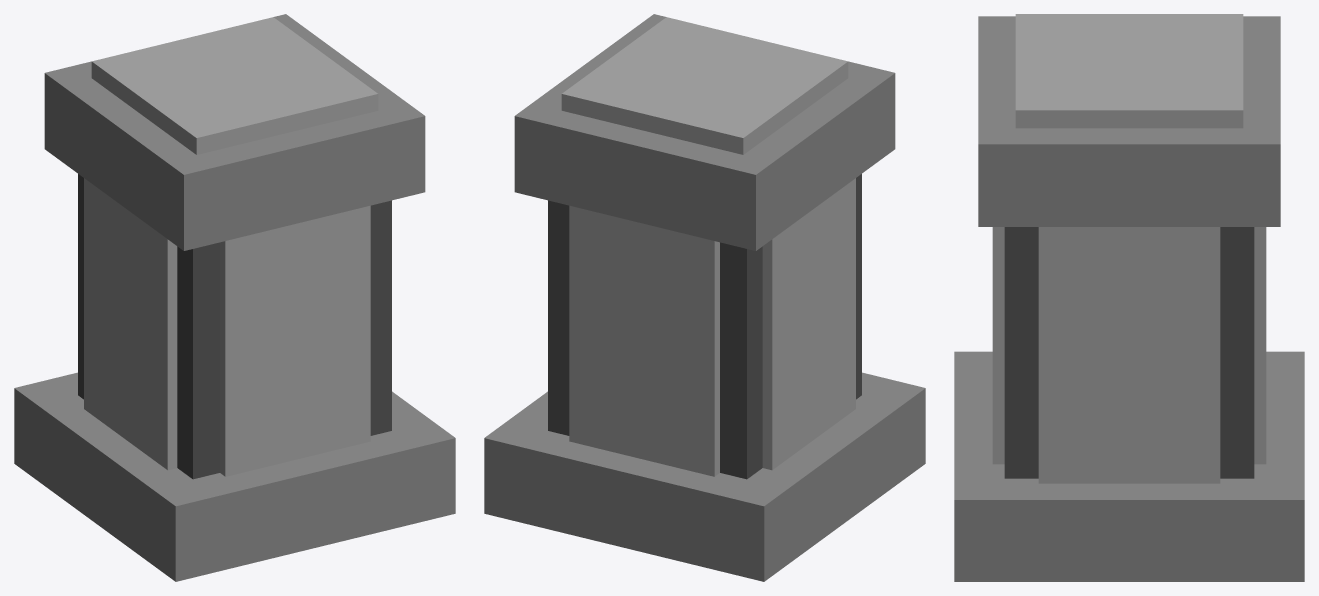
The model's file is Stairs Pillar 01.FBX.
The picture shows the model from 3 angles, left to right: view 1: azimuth 30°, elevation 25°; view 2: azimuth 150°, elevation 25°; view 3: azimuth 270°, elevation 25°; orthographic projection. The views are drawn at different scales.
Visible parts, largest first — view 1: Stairs Pillar 01; view 2: Stairs Pillar 01; view 3: Stairs Pillar 01.
Boxes of the visible parts, x1,y1,x2,y2 form: Stairs Pillar 01: (14, 14, 455, 581); Stairs Pillar 01: (484, 14, 925, 581); Stairs Pillar 01: (954, 14, 1304, 581).
Size of the model in its own units: 68.7 by 96.38 by 68.7.
